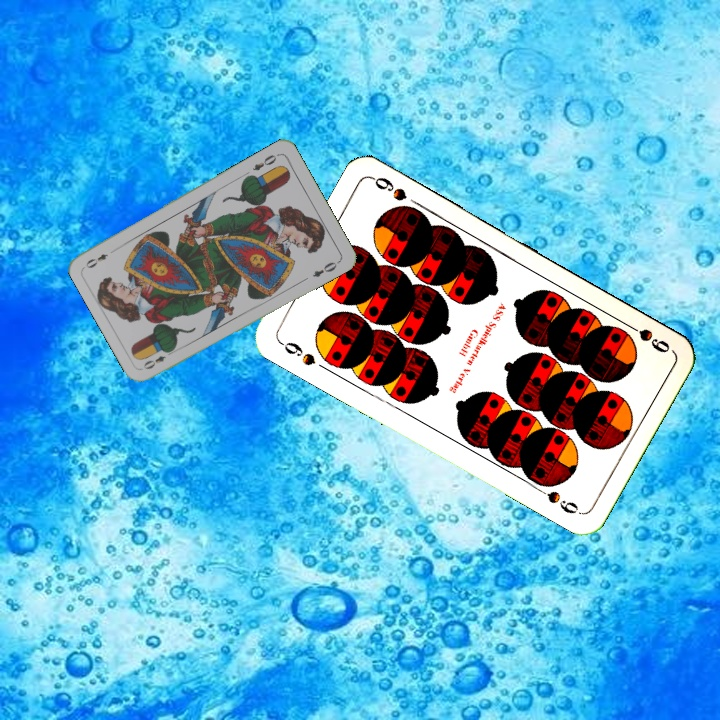EO: (139, 345, 176, 372), (249, 150, 282, 173)
S9: (619, 318, 673, 356), (275, 337, 318, 368)
